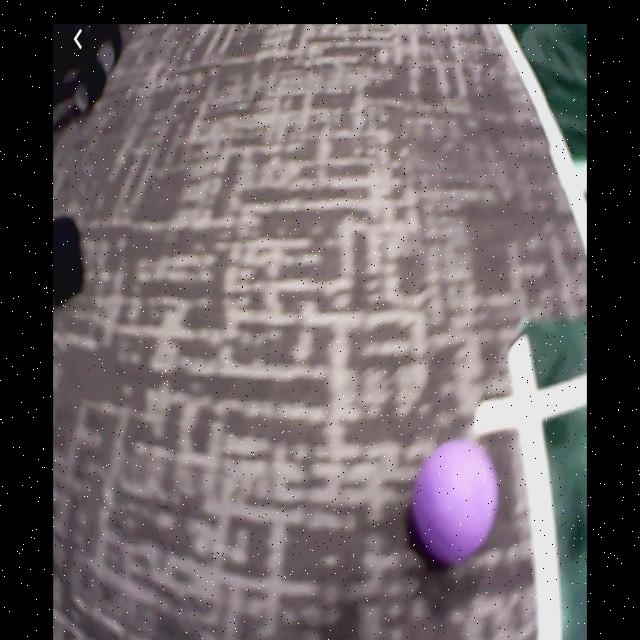ball: (411, 437, 501, 569)
